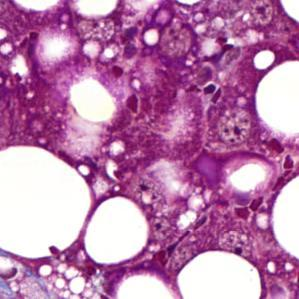steatosis: (82, 201, 152, 264)
